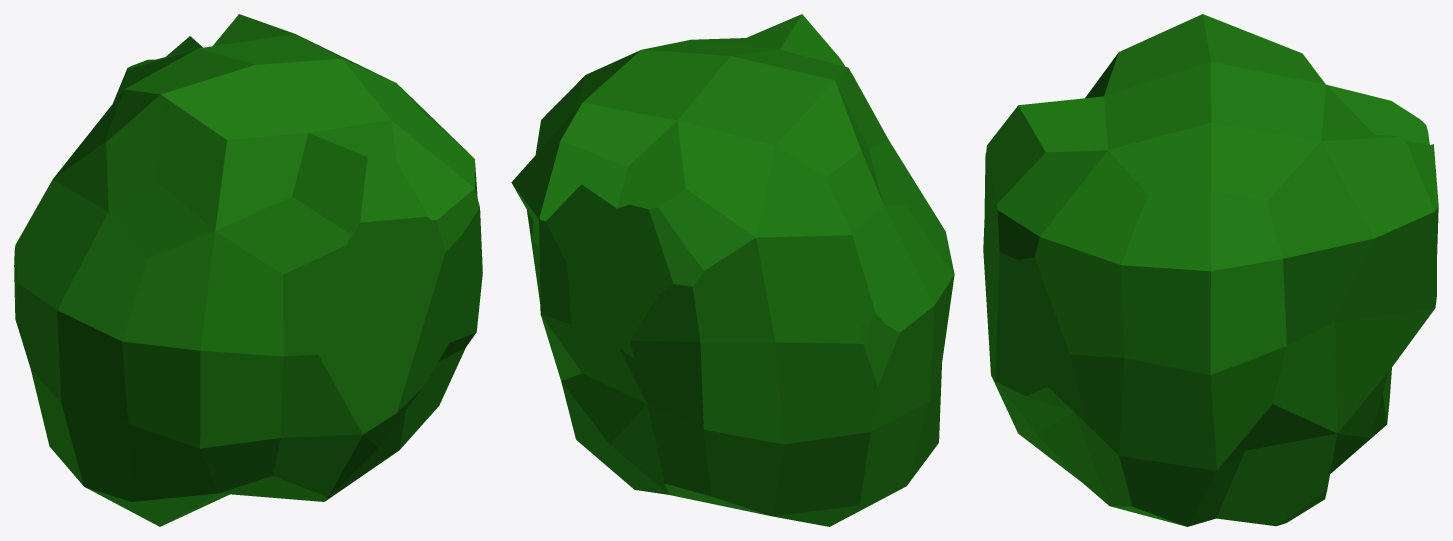
File: bush1.fbx
3 views of the same model, side by side, from view 1: azimuth 30°, elevation 25°; view 2: azimuth 150°, elevation 25°; view 3: azimuth 270°, elevation 25° (orthographic). The views are drawn at different scales.
Visible parts, largest first — view 1: Procedural Low Poly Rock; view 2: Procedural Low Poly Rock; view 3: Procedural Low Poly Rock.
Boxes of the visible parts, left/top/right/bottom form: Procedural Low Poly Rock: left=14, top=14, right=482, bottom=526; Procedural Low Poly Rock: left=511, top=14, right=954, bottom=526; Procedural Low Poly Rock: left=983, top=14, right=1438, bottom=526.
Bounding box in the file's own units: 105 × 110 × 97.87.
